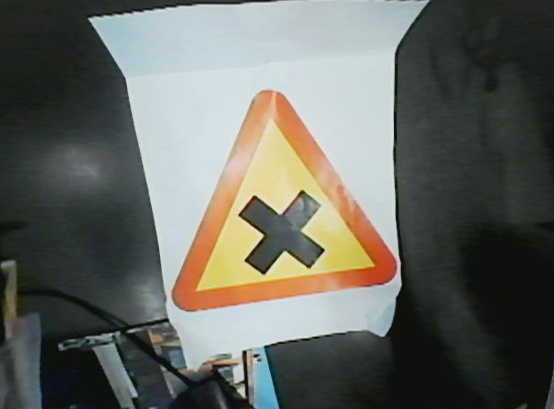junction: (146, 80, 395, 306)
